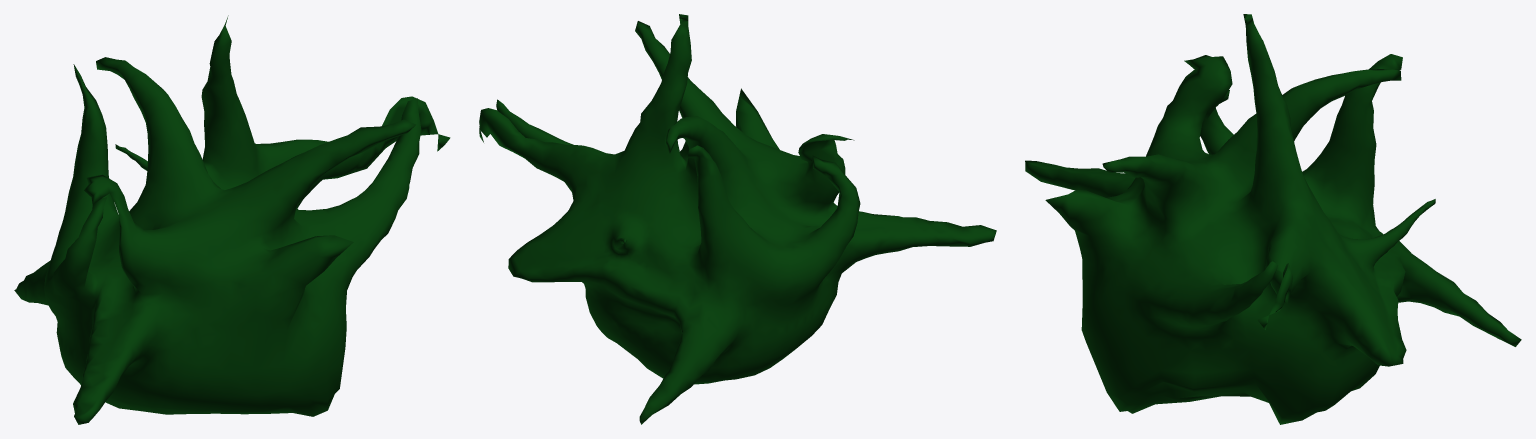
Rendered from jump_cthulhu_004.obj.
3 renders of one model, left to right at view 1: azimuth 30°, elevation 25°; view 2: azimuth 150°, elevation 25°; view 3: azimuth 270°, elevation 25°, orthographic. The views are drawn at different scales.
Visible parts, largest first — view 1: Cube; view 2: Cube; view 3: Cube.
Boxes of the visible parts, x1,y1,x2,y2 form: Cube: (14, 15, 450, 424); Cube: (479, 14, 996, 424); Cube: (1025, 14, 1521, 424).
Bounding box in the file's own units: 1.28 × 0.9471 × 1.08.
